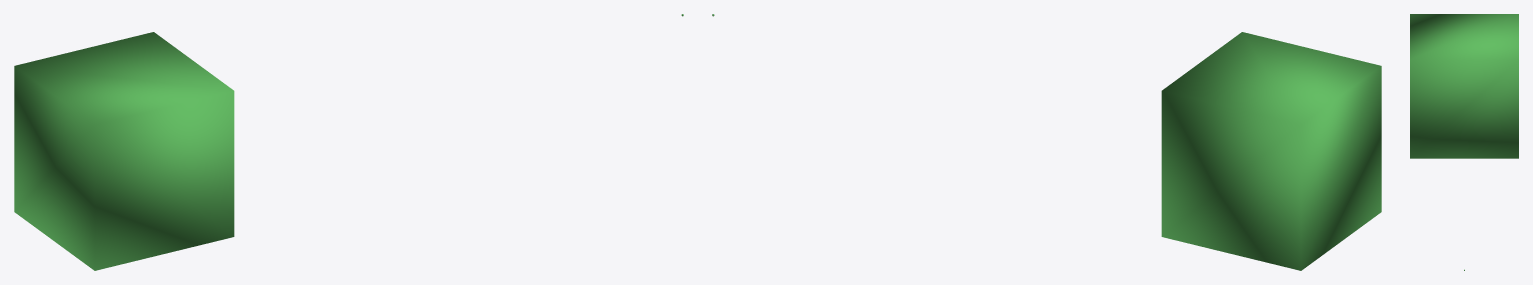
The model's file is expected.gltf.
The picture shows the model from 3 angles, left to right: view 1: azimuth 30°, elevation 25°; view 2: azimuth 150°, elevation 25°; view 3: azimuth 270°, elevation 25°; orthographic projection. The views are drawn at different scales.
Size of the model in its own units: 225 by 50 by 50.
